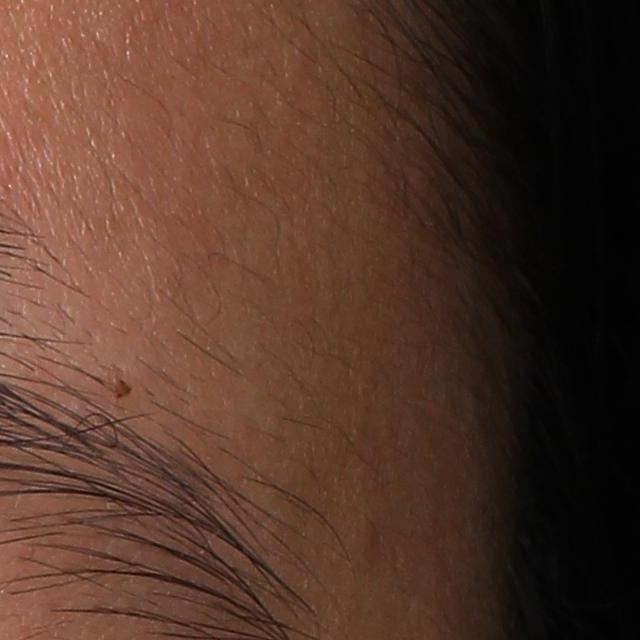nevus: (109, 375, 133, 403)
